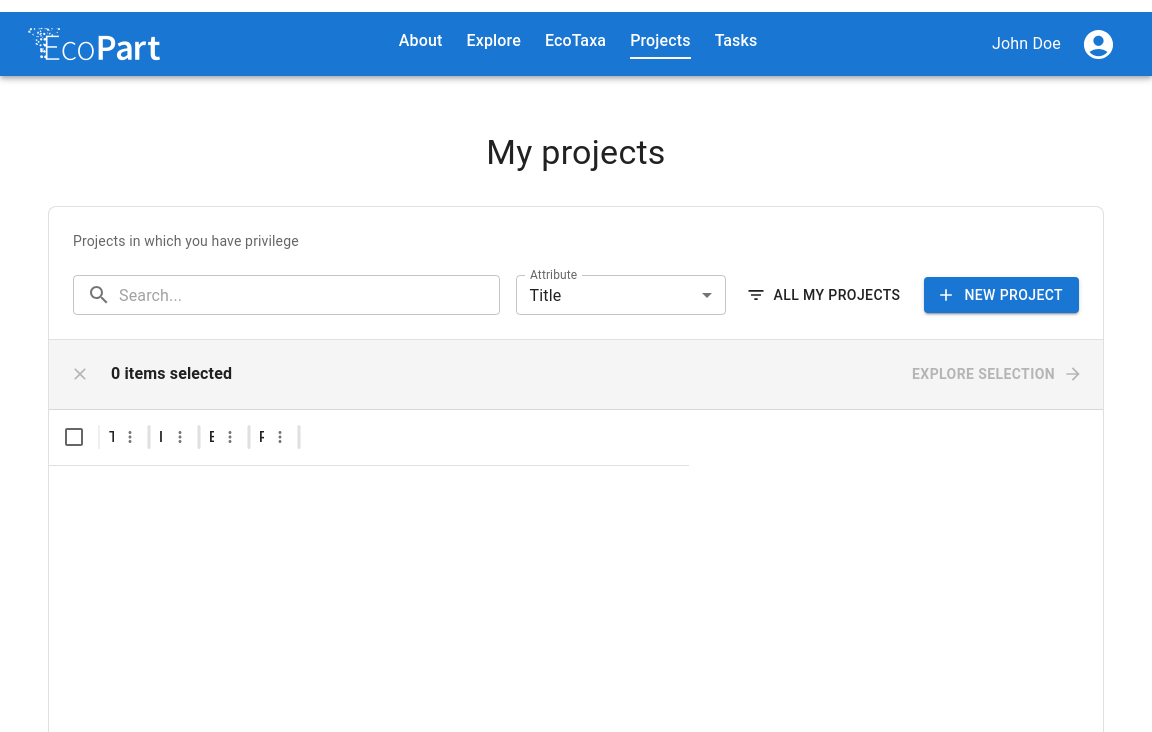
Scenario: ProjectsPage (Functional) › TC-G3: should update UI when filters and search attributes are changed
Type "Tara" into the field with placeholder "Search..." at (309, 295), box [119,275,500,315]
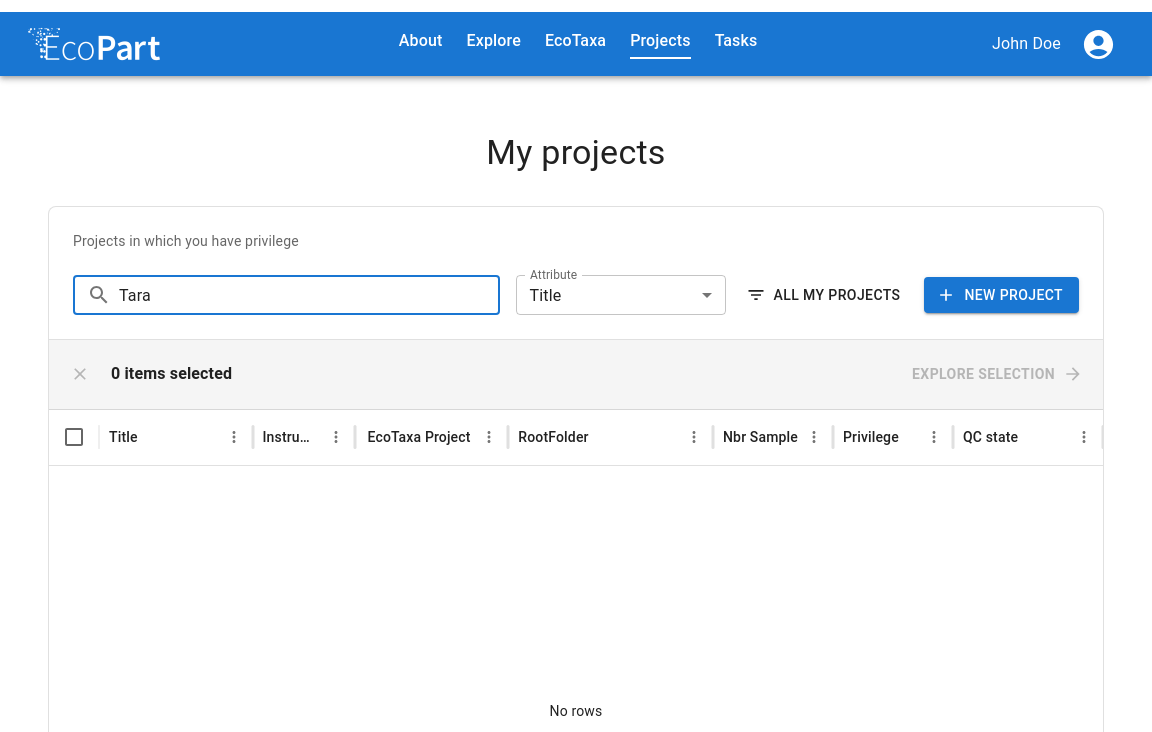
# The default text is "All My Projects" based on the Hook's initial state
Click the button "All My Projects" at (825, 295), box [742,277,908,313]
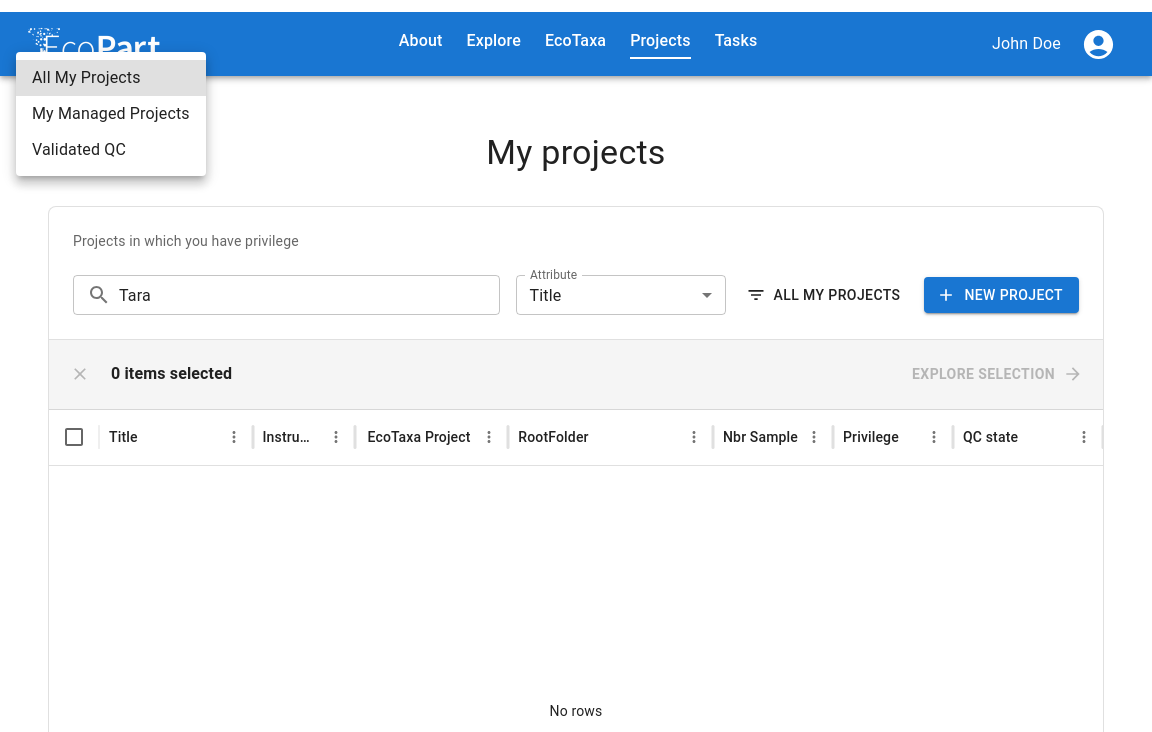
Click the menu item "Validated QC" at (79, 150), box [32,140,126,159]
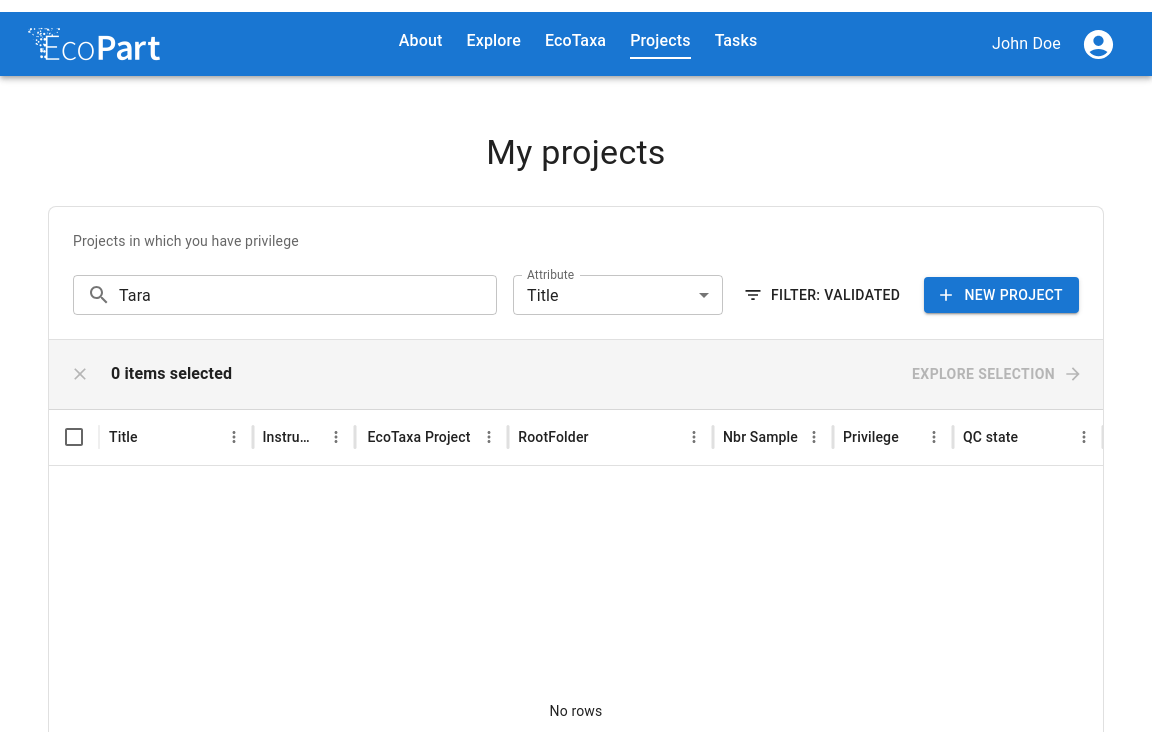
Expected: the button "Filter: Validated" is shown, [739,277,908,313]
